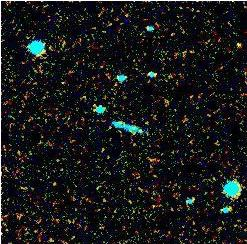star: (225, 28, 247, 58)
